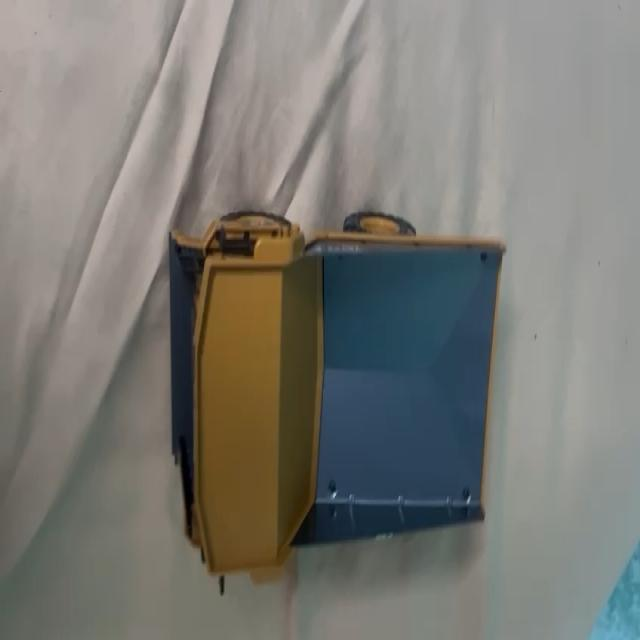dump_truck: (174, 206, 496, 550)
